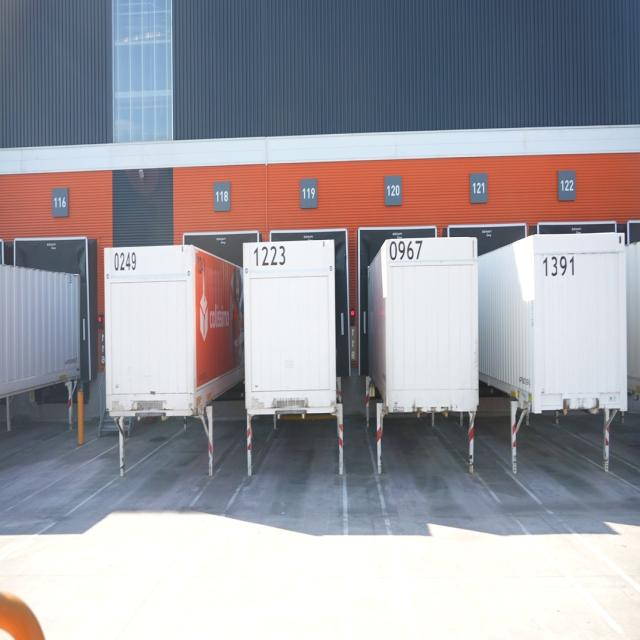Code: (540, 250, 578, 280), (388, 239, 425, 264), (252, 245, 288, 269), (110, 249, 140, 275)
